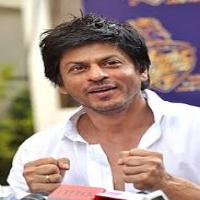ring: (33, 174, 66, 183), (119, 166, 147, 176)
